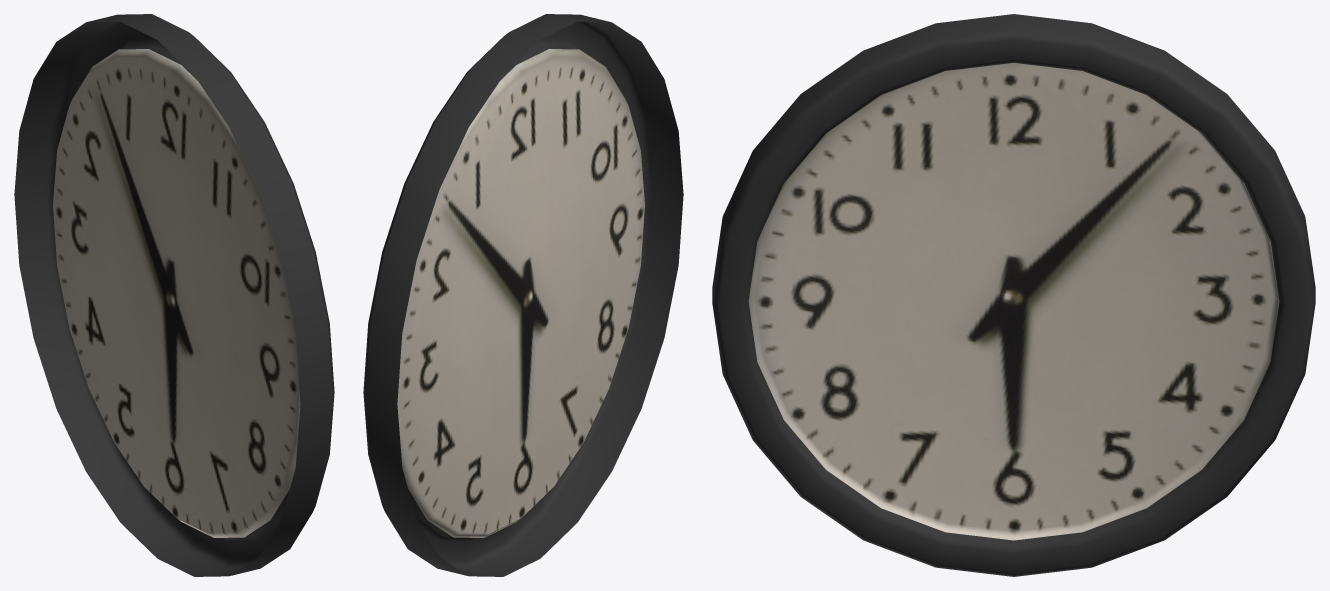
File: SM_Clock.fbx
The picture shows the model from 3 angles, left to right: view 1: azimuth 30°, elevation 25°; view 2: azimuth 150°, elevation 25°; view 3: azimuth 270°, elevation 25°; orthographic projection. The views are drawn at different scales.
Visible parts, largest first — view 1: SM_Clock_LOD0; view 2: SM_Clock_LOD0; view 3: SM_Clock_LOD0.
Part boxes in pixels (left/top/right/bottom): SM_Clock_LOD0: left=14, top=14, right=334, bottom=576; SM_Clock_LOD0: left=363, top=14, right=683, bottom=576; SM_Clock_LOD0: left=712, top=14, right=1315, bottom=576.
Size of the model in its own units: 3.19 by 42.36 by 42.36.
1 material, 1 textured.
